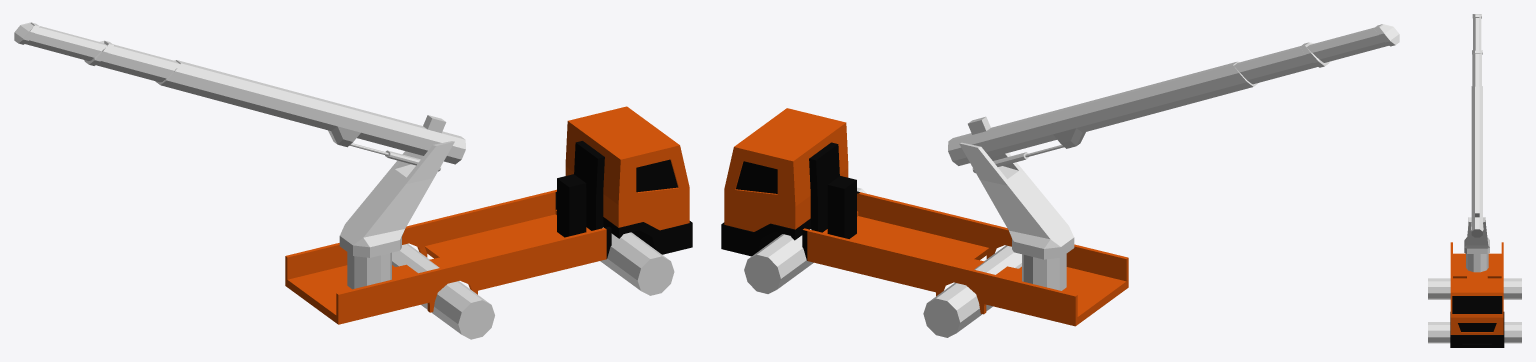
The model's file is Kran.fbx.
The picture shows the model from 3 angles, left to right: view 1: azimuth 30°, elevation 25°; view 2: azimuth 150°, elevation 25°; view 3: azimuth 270°, elevation 25°; orthographic projection. The views are drawn at different scales.
Visible parts, largest first — view 1: Lkw Fahrzeug, Kran teil, Cube.002, Cylinder.001, Cylinder.002, Kran teil1, Kran teil2, Cylinder; view 2: Lkw Fahrzeug, Kran teil, Cube.002, Cylinder.001, Cylinder.002, Kran teil1, Kran teil2, Cylinder; view 3: Lkw Fahrzeug, Kran teil, Cylinder.001, Cylinder.002, Cube.002, Cylinder, Kran teil1, Kran teil2.
Part boxes in pixels (x1,y1,x2,y2): Lkw Fahrzeug: (285,106,692,324); Kran teil: (155,60,465,171); Cube.002: (339,141,454,257); Cylinder.001: (392,243,494,339); Cylinder.002: (600,227,674,295); Kran teil1: (84,40,179,82); Kran teil2: (14,22,107,61); Cylinder: (347,252,391,289); Lkw Fahrzeug: (721,108,1128,326); Kran teil: (948,61,1258,173); Cube.002: (959,142,1074,259); Cylinder.001: (923,245,1021,337); Cylinder.002: (744,187,866,293); Kran teil1: (1234,42,1329,84); Kran teil2: (1306,24,1399,62); Cylinder: (1022,254,1066,290); Lkw Fahrzeug: (1450,242,1504,347); Kran teil: (1471,86,1482,237); Cylinder.001: (1428,278,1521,299); Cylinder.002: (1428,322,1521,343); Cube.002: (1464,217,1489,253); Cylinder: (1466,253,1488,272); Kran teil1: (1472,50,1482,86); Kran teil2: (1472,14,1481,50).
Size of the model in its own units: 798 by 440 by 200.
